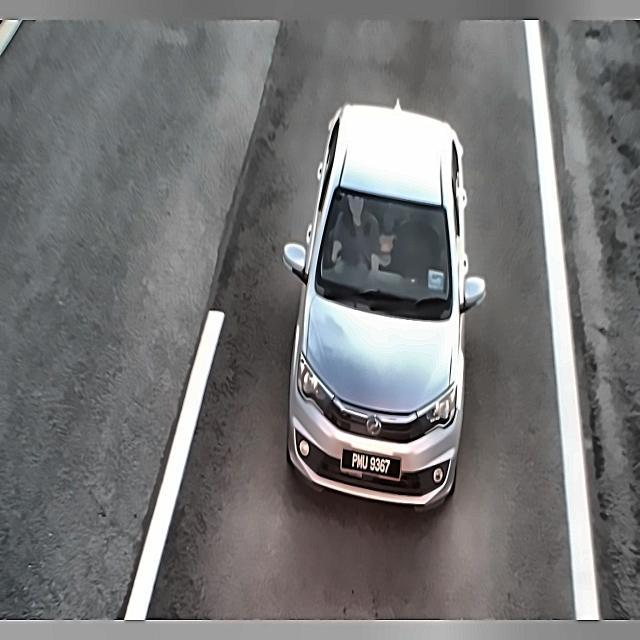car: (341, 445, 401, 487)
